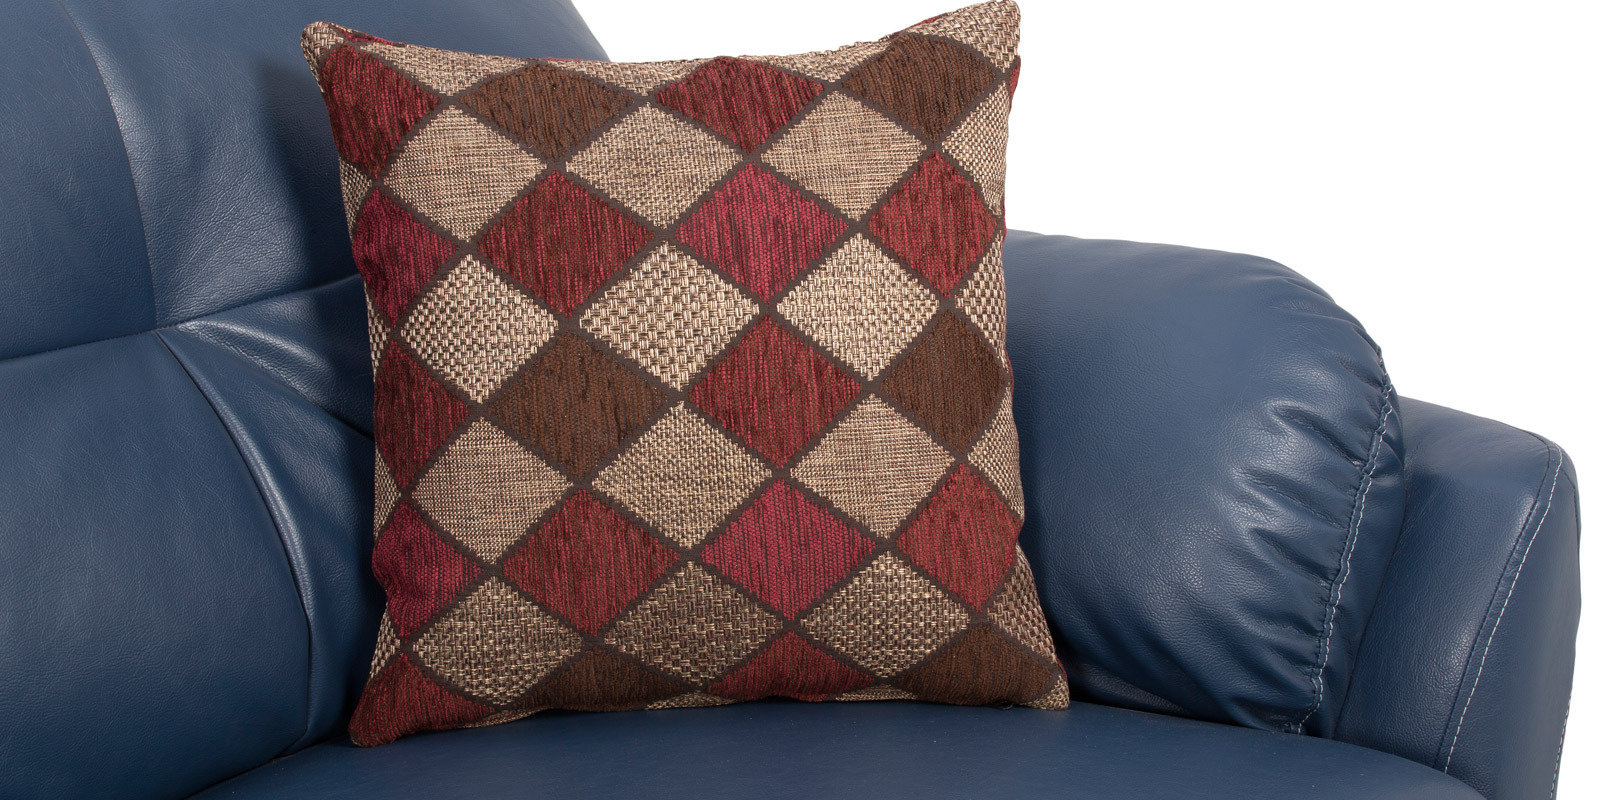Glassgow Heaven Three Seater Sofa with Throw Cushions in Blue Colour by Urban Li: (8, 3, 1599, 791)
